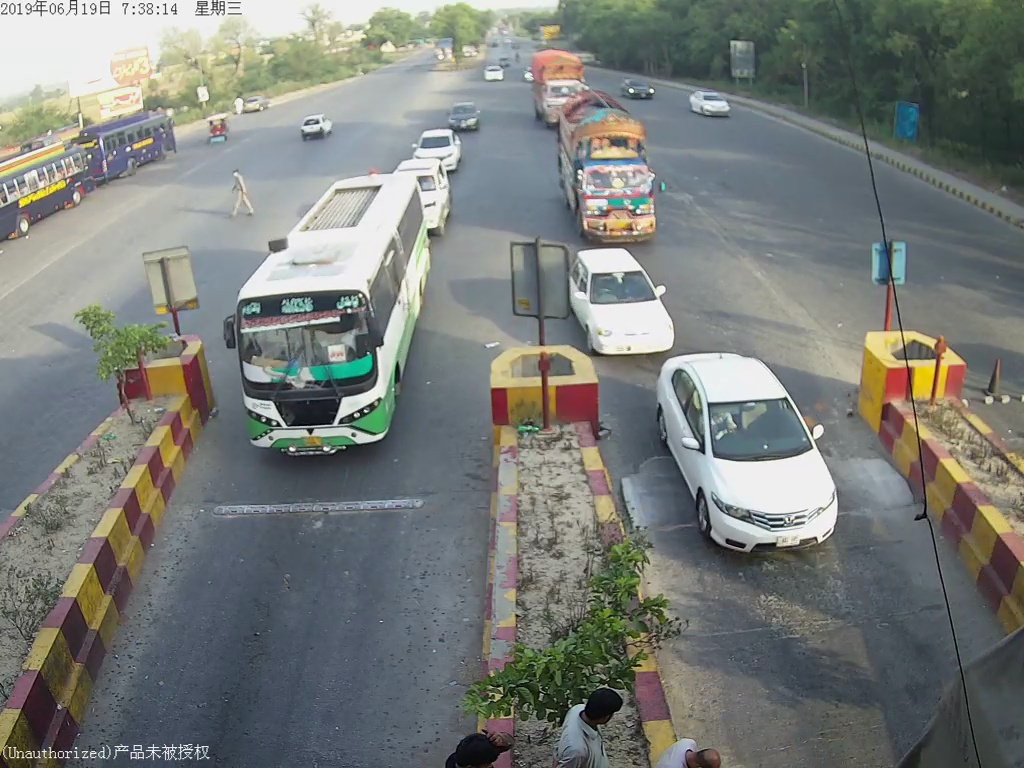Cat-1: (650, 347, 844, 546), (572, 253, 674, 360), (414, 129, 468, 172), (689, 82, 740, 123), (441, 98, 479, 136)
Cat-3: (230, 168, 433, 455)
Cat-4: (560, 102, 671, 246), (529, 53, 573, 130)
